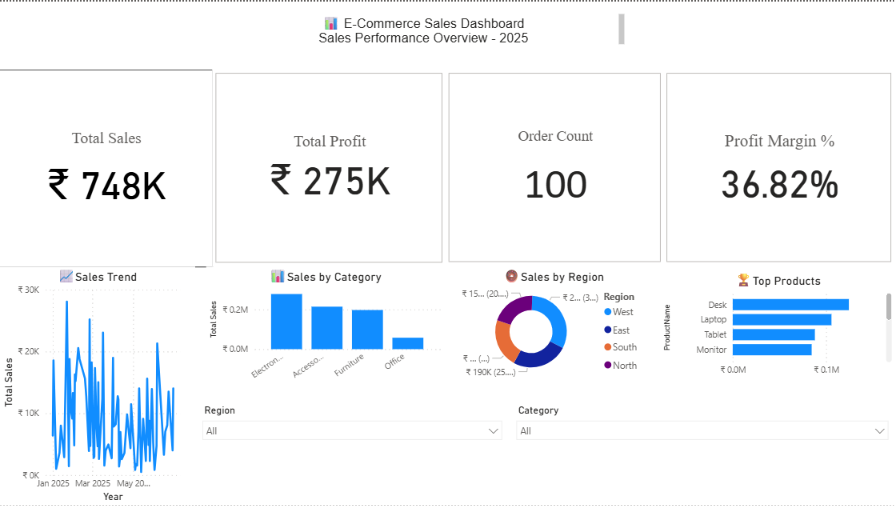

The page's visual inventory and layout, read from the dashboard file:
{"tool":"powerbi","page":{"name":"Page 1","canvas":[1280,720],"ordinal":0},"visuals":[{"type":"cardVisual","fields":{"Data":["Sales.Total Sales"]},"box":[0,96.7,305.8,282],"z":0},{"type":"cardVisual","fields":{"Data":["Sales.Order Count"]},"box":[636.8,96.7,313.3,280],"z":1000},{"type":"cardVisual","fields":{"Data":["Sales.Total Profit"]},"box":[303.9,96.7,334.7,281.3],"z":2000},{"type":"cardVisual","fields":{"Data":["Sales.Profit Margin %"]},"box":[948.3,96.7,331.7,280],"z":3000},{"type":"lineChart","title":"📈Sales Trend","fields":{"Category":["Sales.OrderDate.Variation.Date Hierarchy.Year","Sales.OrderDate.Variation.Date Hierarchy.Quarter","Sales.OrderDate.Variation.Date Hierarchy.Month","Sales.OrderDate.Variation.Date Hierarchy.Day"],"Y":["Sales.Total Sales"]},"box":[0,378,279.9,341.9],"z":4000},{"type":"clusteredColumnChart","title":"📊Sales by Category","fields":{"Category":["Products.Category"],"Y":["Sales.Total Sales"]},"box":[295.5,378,340.5,173.1],"z":5000},{"type":"donutChart","title":"🍩Sales by Region","fields":{"Category":["Sales.Region"],"Y":["Sales.Total Sales"]},"box":[651.7,379,281,167],"z":6000},{"type":"clusteredBarChart","title":"🏆Top Products","fields":{"Category":["Products.ProductName"],"Y":["Sales.Total Sales"]},"box":[944,384,336,160],"z":7000},{"type":"slicer","fields":{"Values":["Sales.Region"]},"box":[280,570,448.3,150],"z":8000},{"type":"slicer","fields":{"Values":["Products.Category"]},"box":[728.3,570,551.7,150],"z":9000},{"type":"textbox","box":[383.8,13,513.6,54.8],"z":10000}]}

Visuals, with their boxes in screenshot pixels (x1, y1, x2, y2), scaled from the page's 1280x720 canvas onto the 895x506 screenshot:
cardVisual - Sales.Total Sales: (0, 68, 214, 266)
cardVisual - Sales.Order Count: (445, 68, 664, 265)
cardVisual - Sales.Total Profit: (212, 68, 447, 266)
cardVisual - Sales.Profit Margin %: (663, 68, 894, 265)
"📈Sales Trend" lineChart: (0, 266, 196, 505)
"📊Sales by Category" clusteredColumnChart: (207, 266, 445, 387)
"🍩Sales by Region" donutChart: (456, 266, 652, 384)
"🏆Top Products" clusteredBarChart: (660, 270, 894, 382)
slicer - Sales.Region: (196, 401, 509, 505)
slicer - Products.Category: (509, 401, 894, 505)
textbox: (268, 9, 627, 48)
